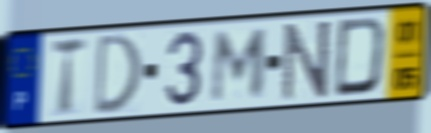3: (163, 28, 205, 110)
D: (331, 14, 389, 100), (91, 30, 144, 119)
M: (208, 26, 271, 105)
N: (281, 17, 334, 104)
T: (49, 35, 90, 120)
